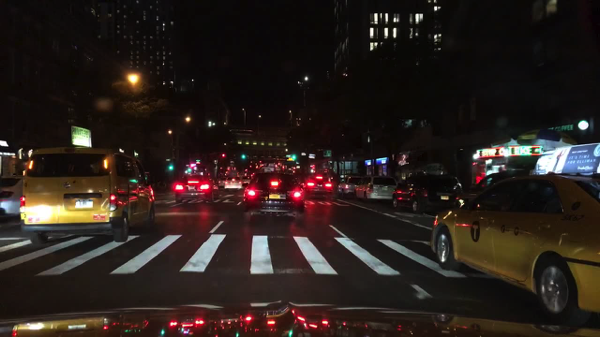car: (430, 171, 598, 324), (19, 146, 152, 246), (241, 169, 304, 222), (393, 170, 462, 216), (471, 171, 533, 197), (175, 171, 220, 205), (353, 175, 397, 204), (0, 173, 24, 223), (300, 172, 333, 198), (335, 175, 365, 198), (223, 174, 242, 192), (215, 176, 227, 187), (242, 175, 251, 186)
traffic light: (168, 163, 174, 171), (240, 152, 245, 161), (291, 154, 296, 161)
traffic sign: (323, 149, 331, 157), (308, 154, 316, 159), (301, 152, 306, 156)
